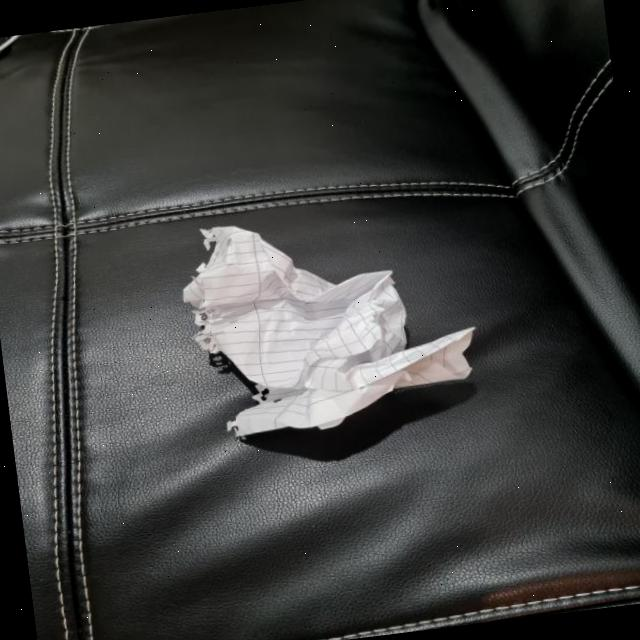trash: (173, 198, 480, 452)
